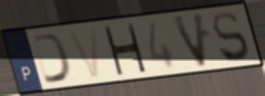4: (148, 18, 179, 72)
D: (29, 31, 73, 86)
H: (101, 23, 149, 76)
S: (210, 9, 252, 64)
V: (169, 11, 211, 71), (65, 25, 103, 81)
